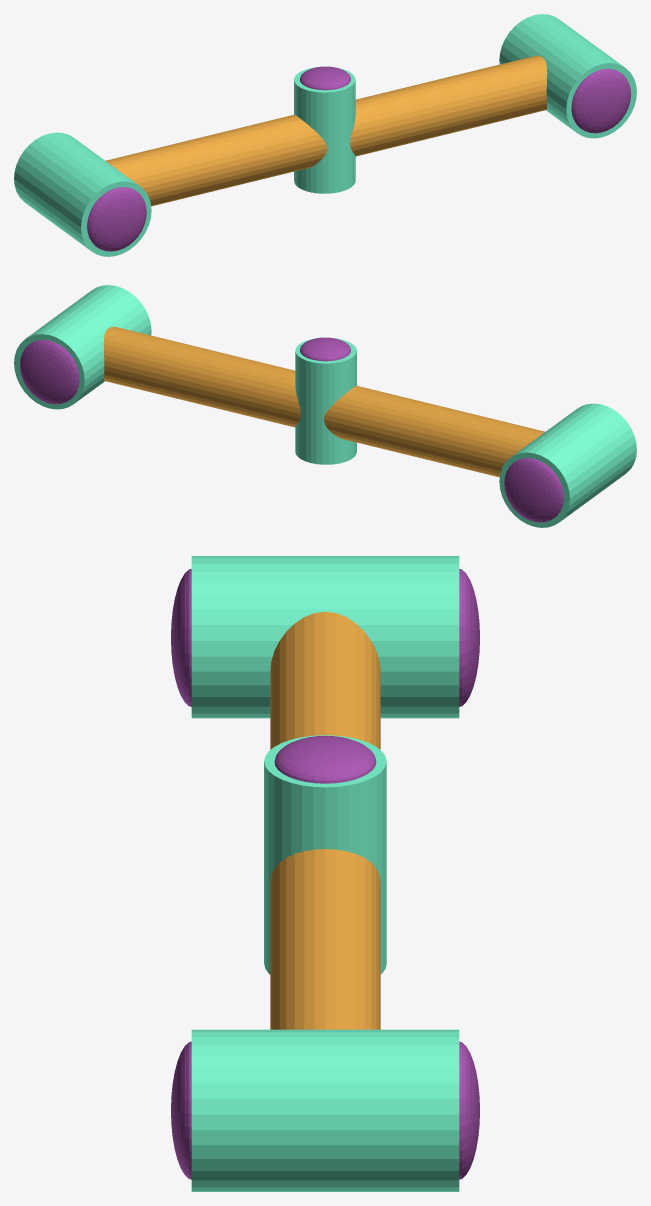
The model's file is spinninghammer.fbx.
3 renders of one model, top to bottom at view 1: azimuth 30°, elevation 25°; view 2: azimuth 150°, elevation 25°; view 3: azimuth 270°, elevation 25°, orthographic. The views are drawn at different scales.
Parts seen in each view (by area): view 1: Cylinder; view 2: Cylinder; view 3: Cylinder.
Boxes of the visible parts, x1,y1,x2,y2 form: Cylinder: (14,14,636,256); Cylinder: (14,285,636,527); Cylinder: (171,556,479,1191).
Size of the model in its own units: 1123 by 209 by 270.
